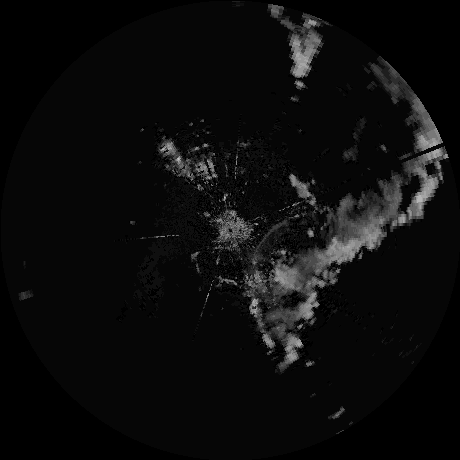frontgust: (252, 214, 303, 267)
